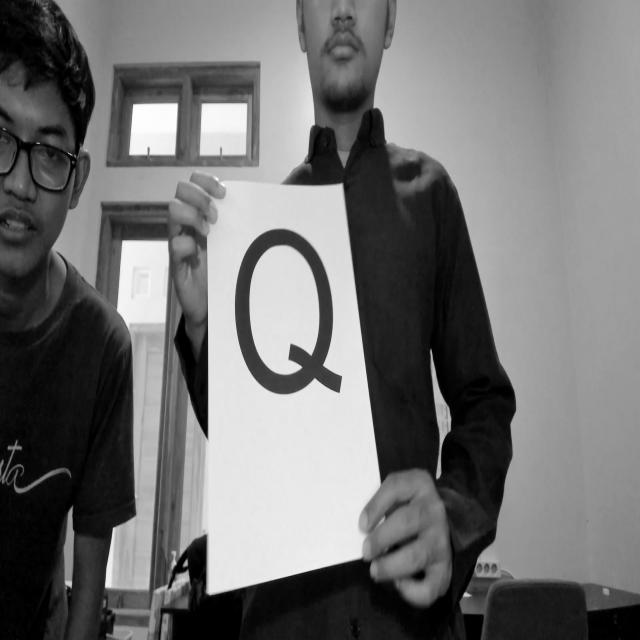q: (225, 206, 358, 431)
